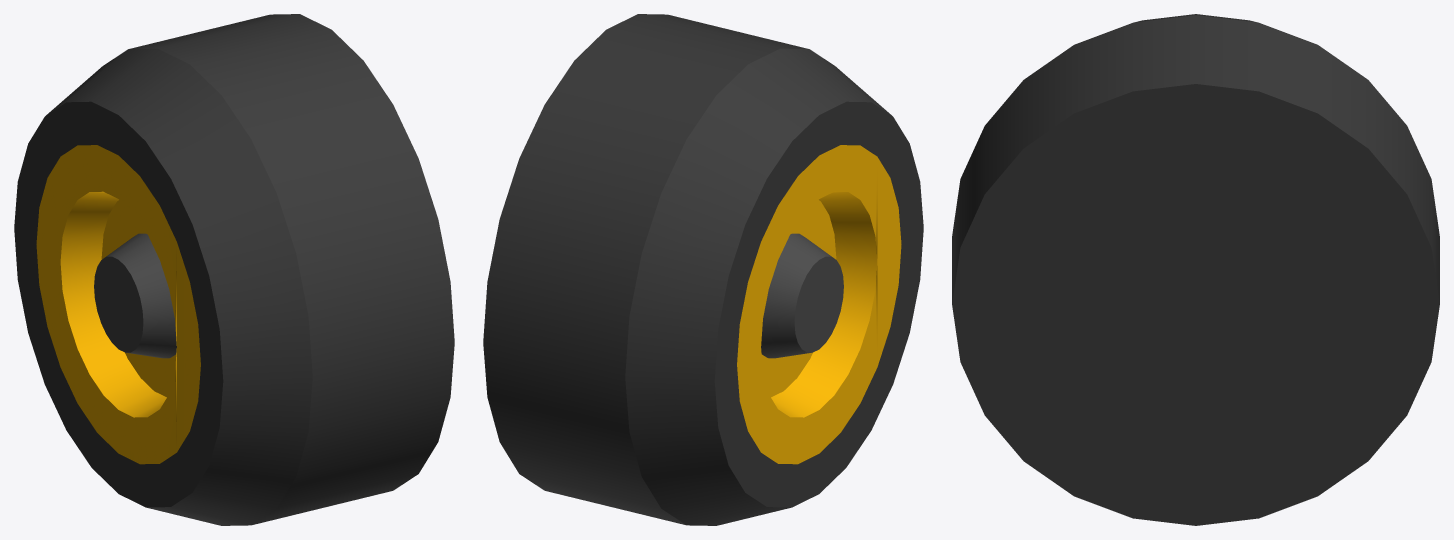
The model's file is SM_Wheel_Tractor_Back.fbx.
The picture shows the model from 3 angles, left to right: view 1: azimuth 30°, elevation 25°; view 2: azimuth 150°, elevation 25°; view 3: azimuth 270°, elevation 25°; orthographic projection.
Parts seen in each view (by area): view 1: SM_Wheel_Tractor_Back; view 2: SM_Wheel_Tractor_Back; view 3: SM_Wheel_Tractor_Back.
Boxes of the visible parts, bbox=[...] form: SM_Wheel_Tractor_Back: bbox=[14, 14, 454, 525]; SM_Wheel_Tractor_Back: bbox=[483, 14, 923, 525]; SM_Wheel_Tractor_Back: bbox=[952, 14, 1439, 525].
Size of the model in its own units: 0.4376 by 0.8752 by 0.8752.
